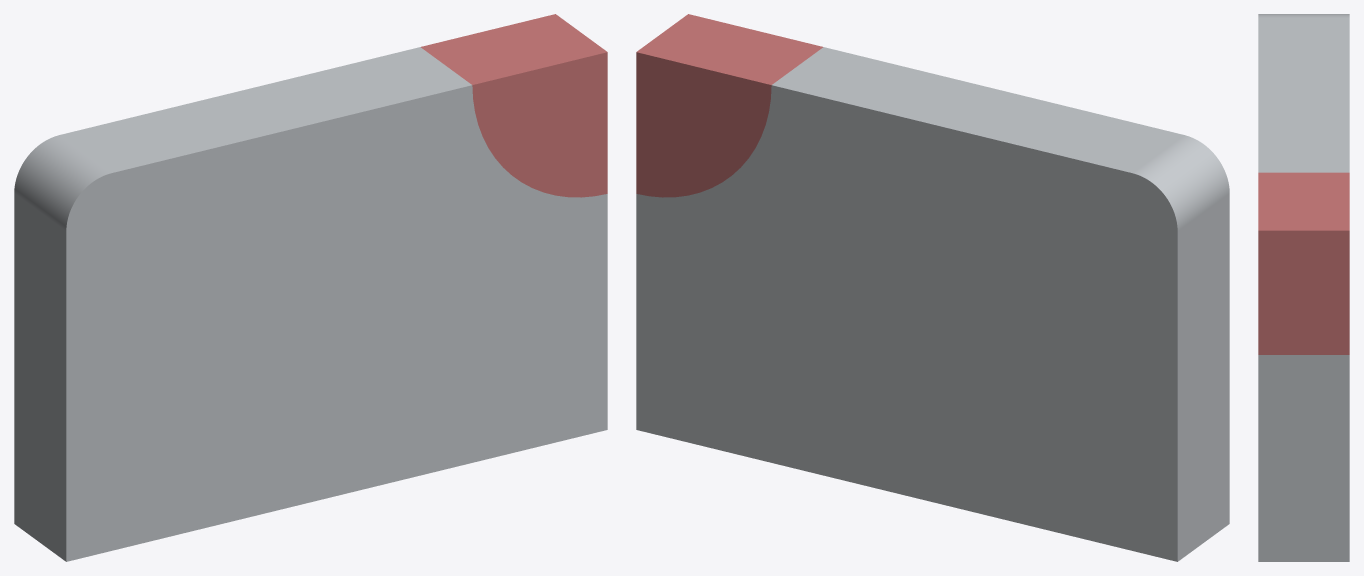
The model's file is step_03.glb.
3 renders of one model, left to right at view 1: azimuth 30°, elevation 25°; view 2: azimuth 150°, elevation 25°; view 3: azimuth 270°, elevation 25°, orthographic. The views are drawn at different scales.
Visible parts, largest first — view 1: part__radius plate, removed__radius plate; view 2: part__radius plate, removed__radius plate; view 3: part__radius plate, removed__radius plate.
Boxes of the visible parts, x1,y1,x2,y2 form: part__radius plate: (14, 47, 607, 561); removed__radius plate: (421, 14, 607, 197); part__radius plate: (636, 47, 1229, 561); removed__radius plate: (636, 14, 822, 197); part__radius plate: (1258, 14, 1349, 561); removed__radius plate: (1258, 172, 1349, 354).
Bounding box in the file's own units: 60 × 40 × 10.
